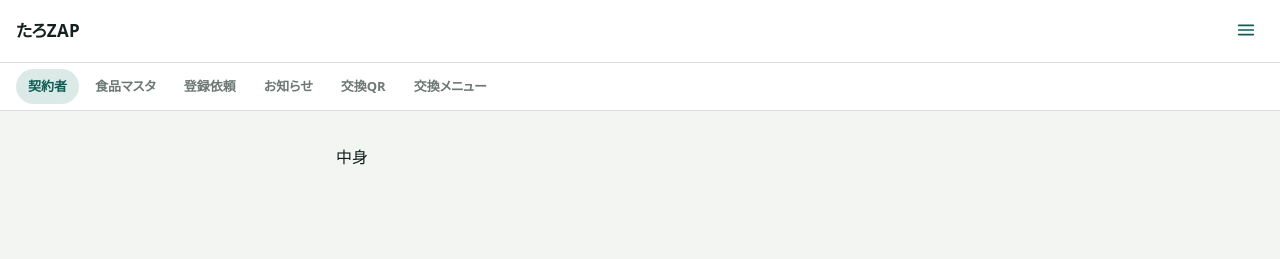
Test: 右上のメニュー › ★ 行き先の無い画面では、設定を出さない
Click the button named "メニュー": coordinates (1246, 30) top-left (1228, 12), bottom-right (1264, 48)
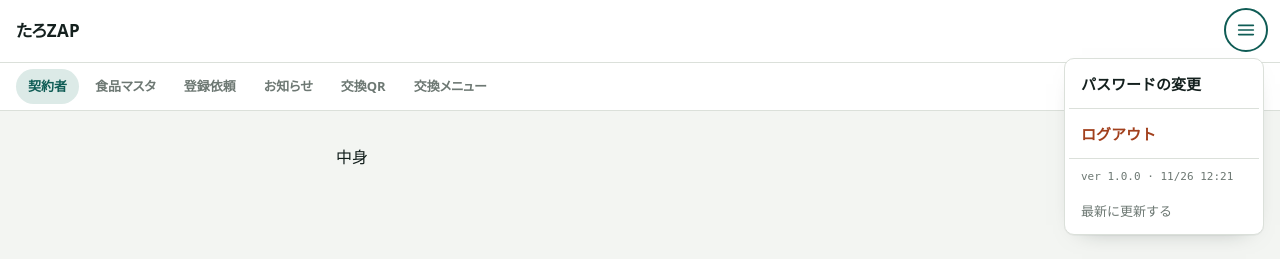
Check: the menu item "ログアウト" is shown, box top-left (1069, 113), bottom-right (1259, 154)
